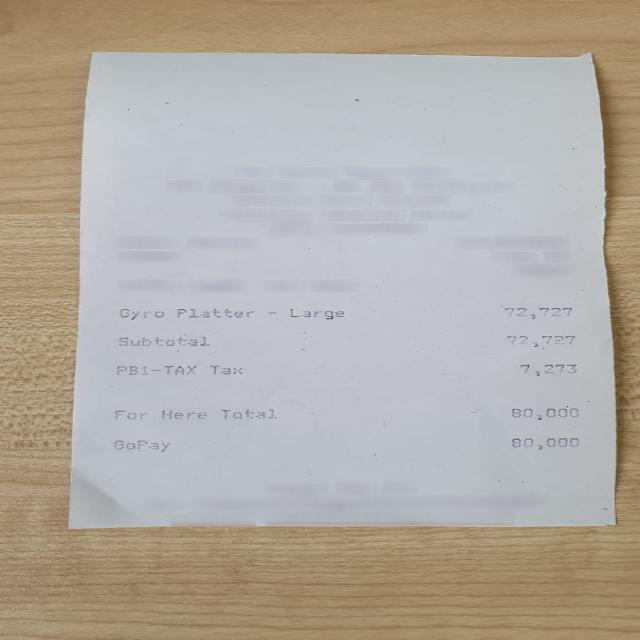kertas: (69, 52, 614, 529)
